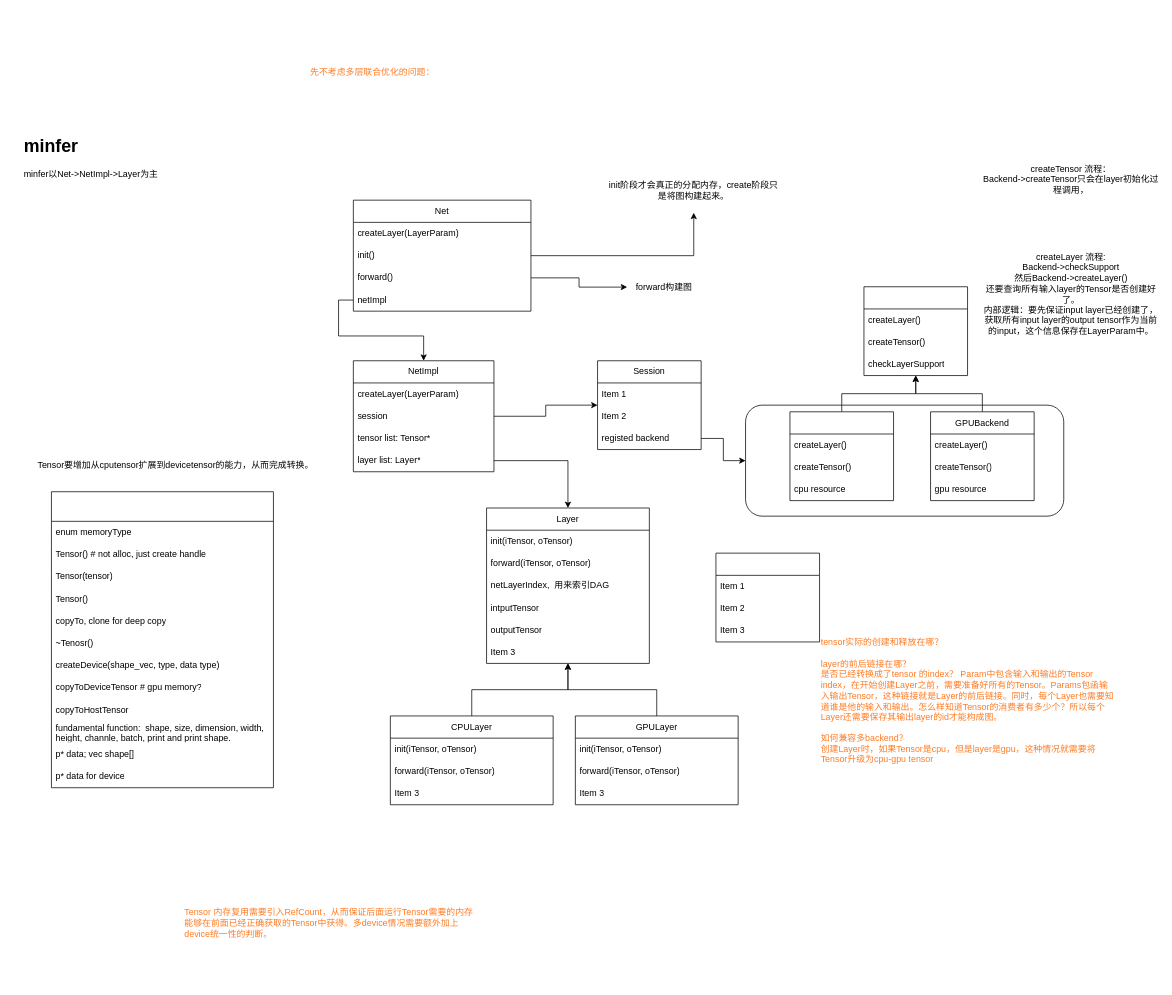
Image size: 1172x995. Some labels were removed from this diagram. The shapes that lost their labels are listed below. From the top down, each one's box as (x1, y1, x2, y2) in pixels, then its label:
(863, 286, 968, 376): Backend
(789, 411, 894, 501): CPUBackend
(715, 552, 820, 642): SubNet？简化流程，不需要
(51, 491, 273, 788): Tensor (Tensor API) delete all the copy function
